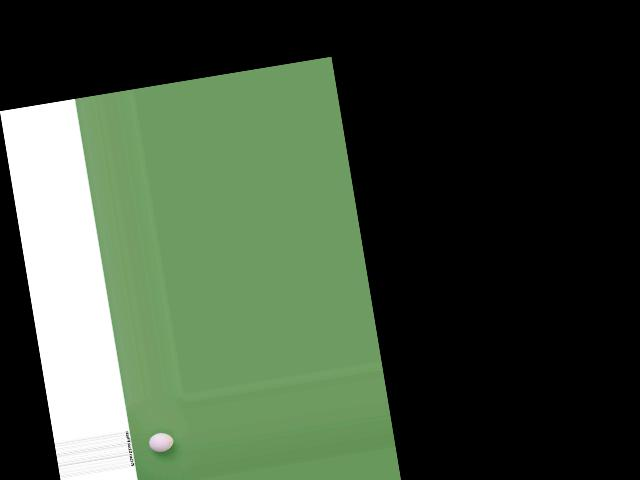egg: (147, 431, 174, 453)
